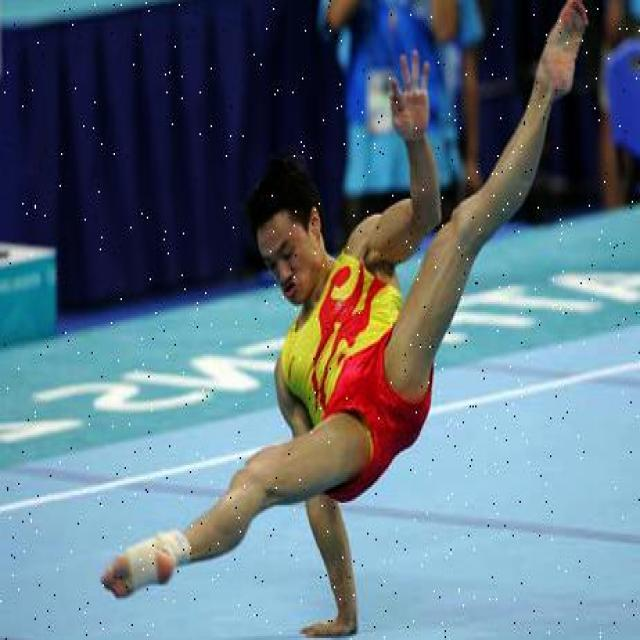fall: (154, 44, 568, 584)
